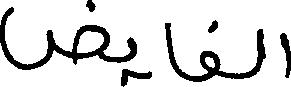X: (0, 0, 108, 74), (201, 15, 220, 86), (163, 18, 177, 78), (125, 32, 136, 86), (279, 28, 290, 82), (254, 24, 263, 79)
